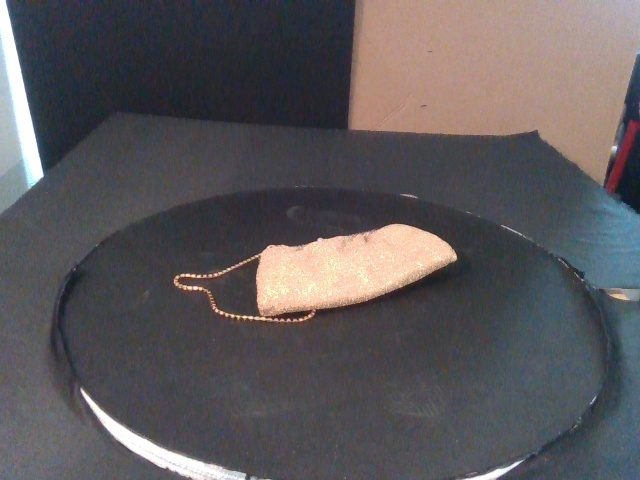bag: (254, 223, 460, 316)
